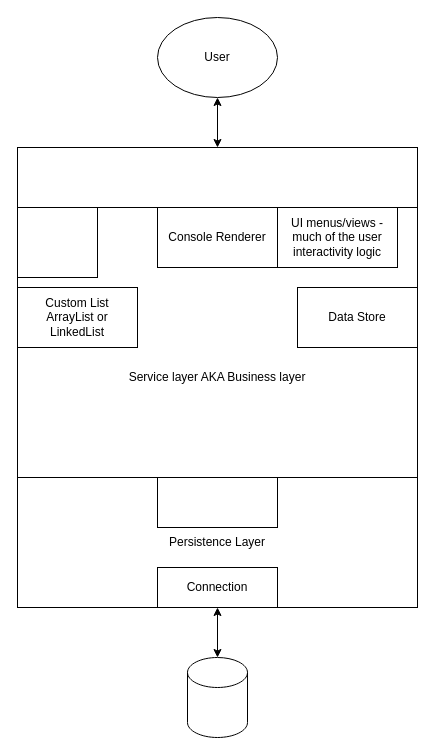
The diagram is 435 pixels wide and 755 high, and some of its shapes have lost their labels. The centre of each missing label's shape, as x and y in pixels:
"Console" belongs at (217,177).
"JDBC Logic" belongs at (217,502).
"Main - looping until quit" belongs at (57,242).
"MariaDB" belongs at (217,697).
